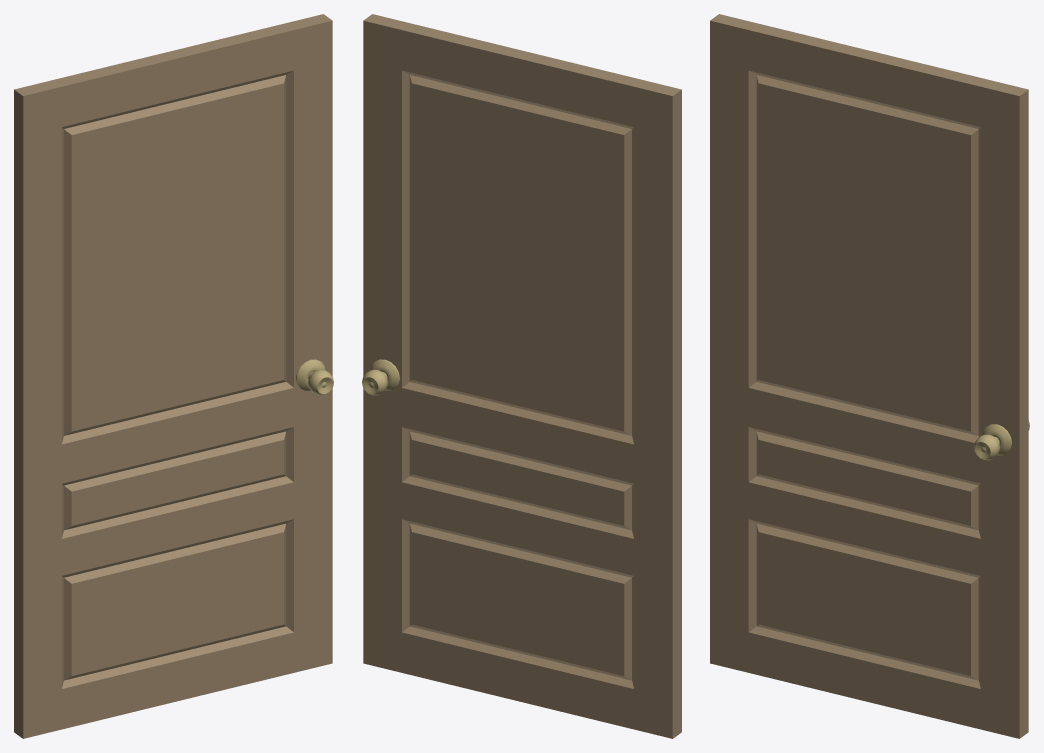
Rendered from Door.fbx.
3 views of the same model, side by side, from view 1: azimuth 30°, elevation 25°; view 2: azimuth 150°, elevation 25°; view 3: azimuth 330°, elevation 25° (orthographic).
Visible parts, largest first — view 1: DoorGeo, DoorHandle; view 2: DoorGeo, DoorHandle; view 3: DoorGeo, DoorHandle.
Boxes of the visible parts, bbox=[...] form: DoorGeo: bbox=[14, 14, 332, 738]; DoorHandle: bbox=[296, 359, 333, 395]; DoorGeo: bbox=[363, 14, 681, 738]; DoorHandle: bbox=[362, 359, 399, 395]; DoorGeo: bbox=[710, 14, 1028, 738]; DoorHandle: bbox=[974, 421, 1029, 460].
Bounding box in the file's own units: 120 × 239 × 26.05.
